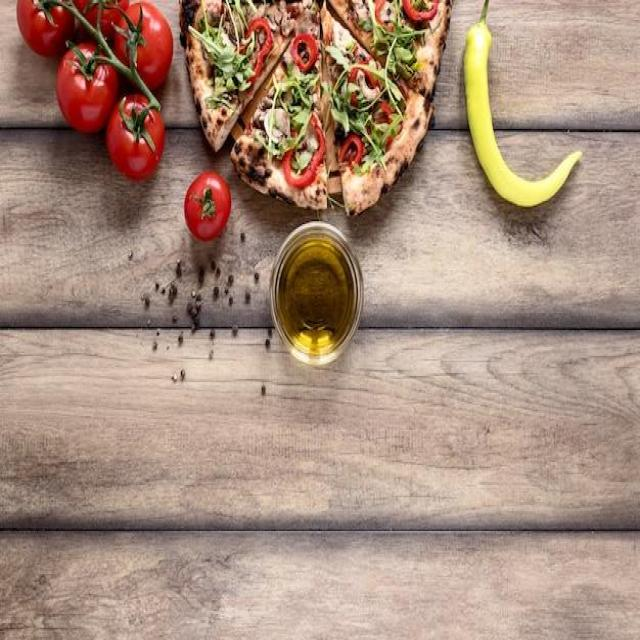pizza: (180, 0, 448, 214)
